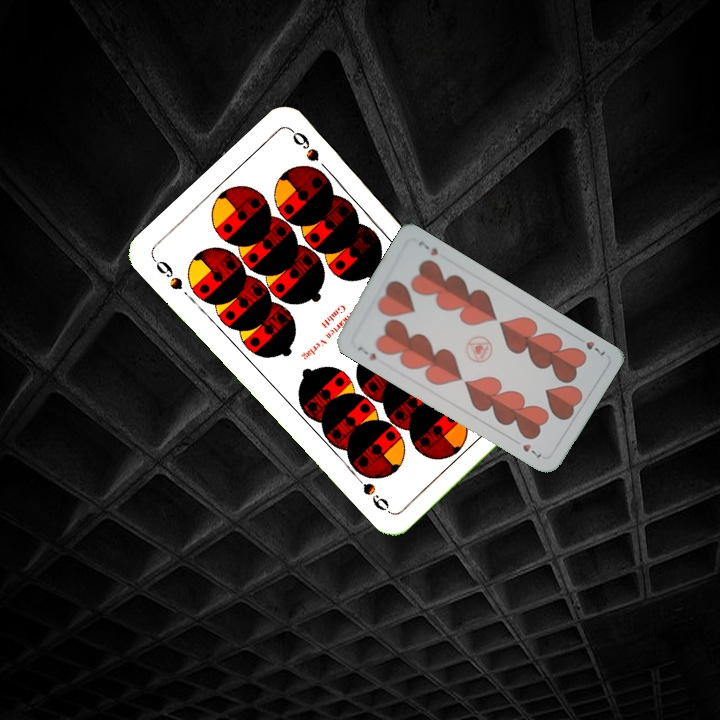H7: (572, 332, 608, 360), (353, 342, 379, 363)
S9: (148, 254, 185, 293)
